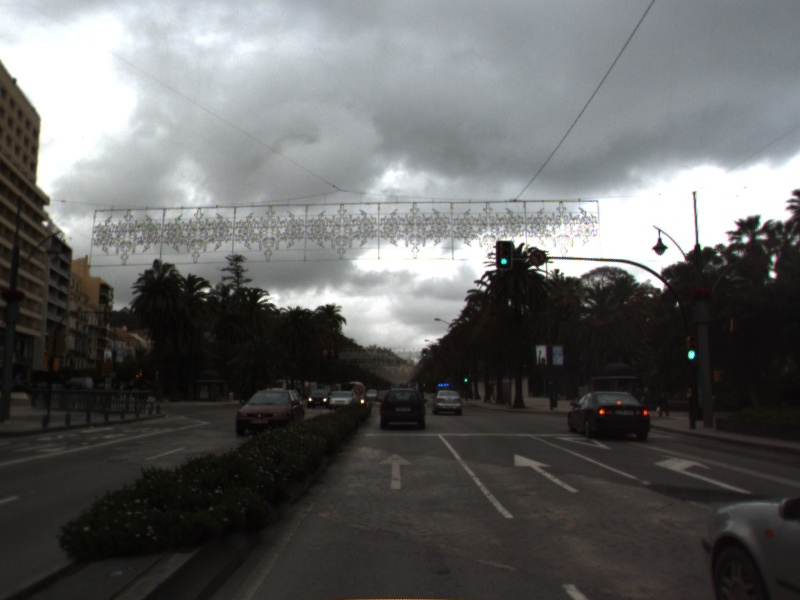RIGHT: (652, 453, 755, 496)
STRAIGHT: (512, 452, 582, 495), (376, 451, 416, 491)
